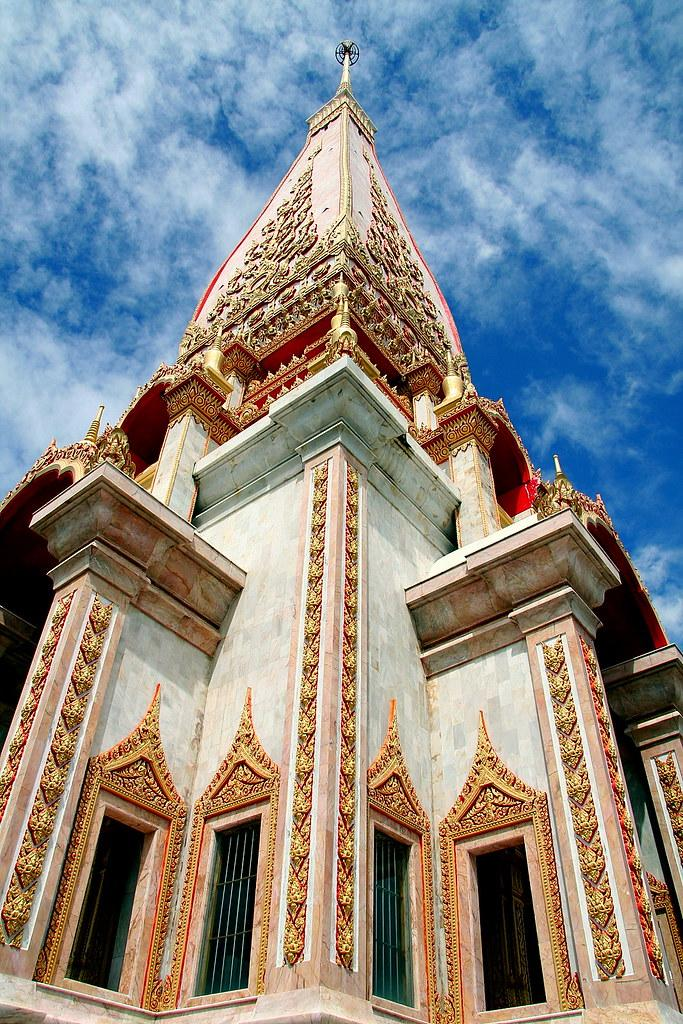temple: (2, 38, 682, 1023)
